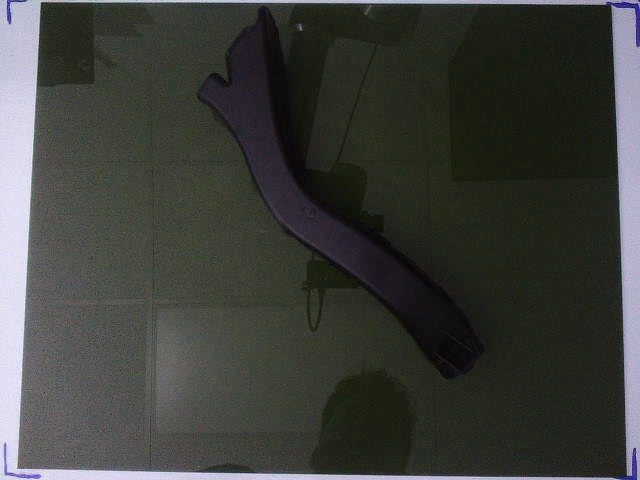887_B-Top: (198, 7, 481, 379)
